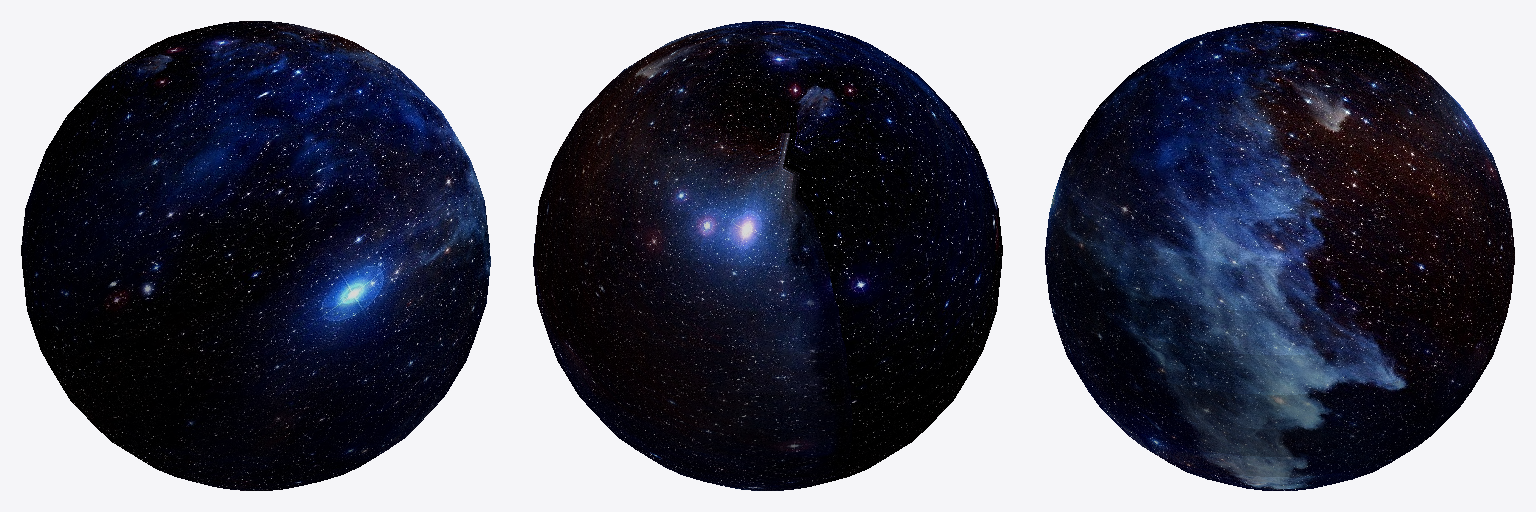
The picture shows the model from 3 angles: view 1: azimuth 30°, elevation 25°; view 2: azimuth 150°, elevation 25°; view 3: azimuth 270°, elevation 25°; orthographic projection.
Parts seen in each view (by area): view 1: Sphere; view 2: Sphere; view 3: Sphere.
Part boxes in pixels (x1,y1,x2,y2): Sphere: (21, 21, 490, 490); Sphere: (533, 21, 1002, 490); Sphere: (1045, 21, 1514, 490).
Size of the model in its own units: 2 by 2 by 2.
1 materials, 1 textured.